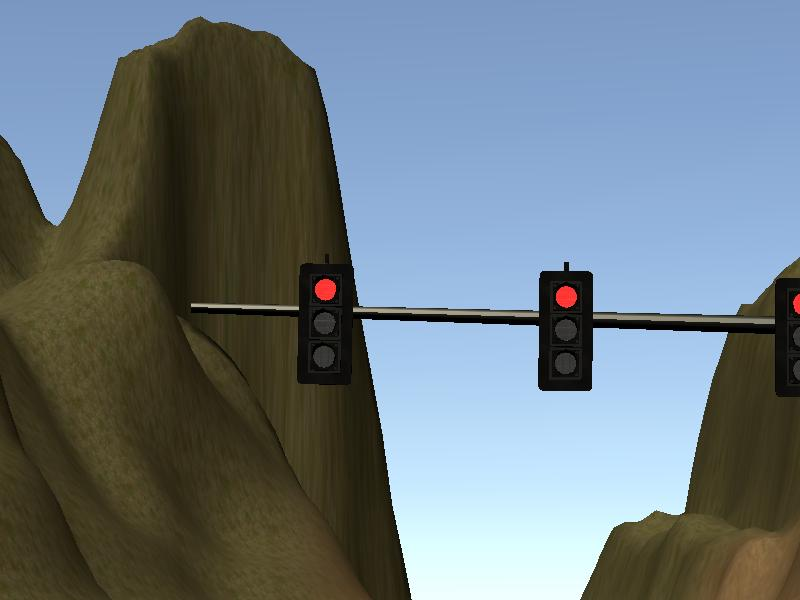red: (539, 271, 594, 391), (299, 261, 348, 383), (774, 277, 800, 397)
